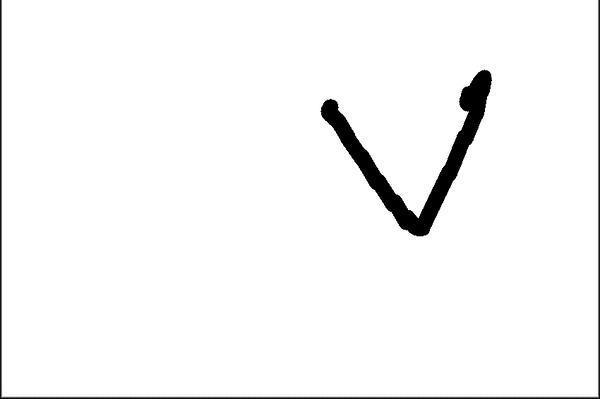V: (303, 57, 500, 245)
